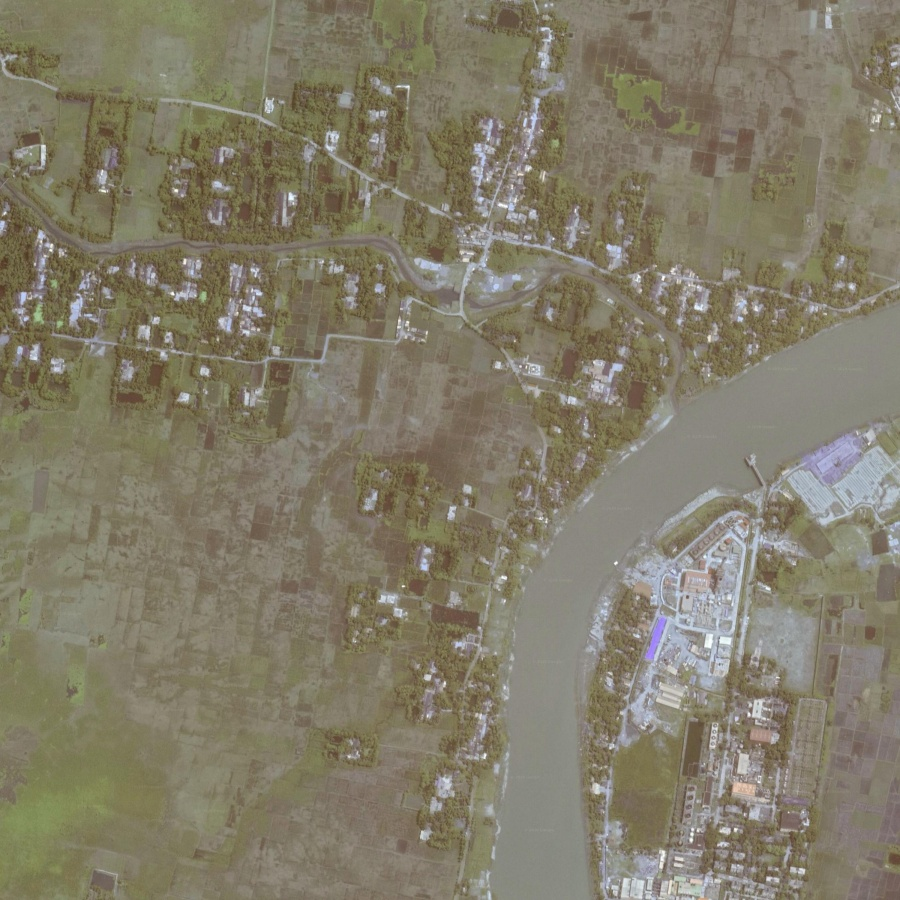PowerPlant: (672, 522, 743, 677)
